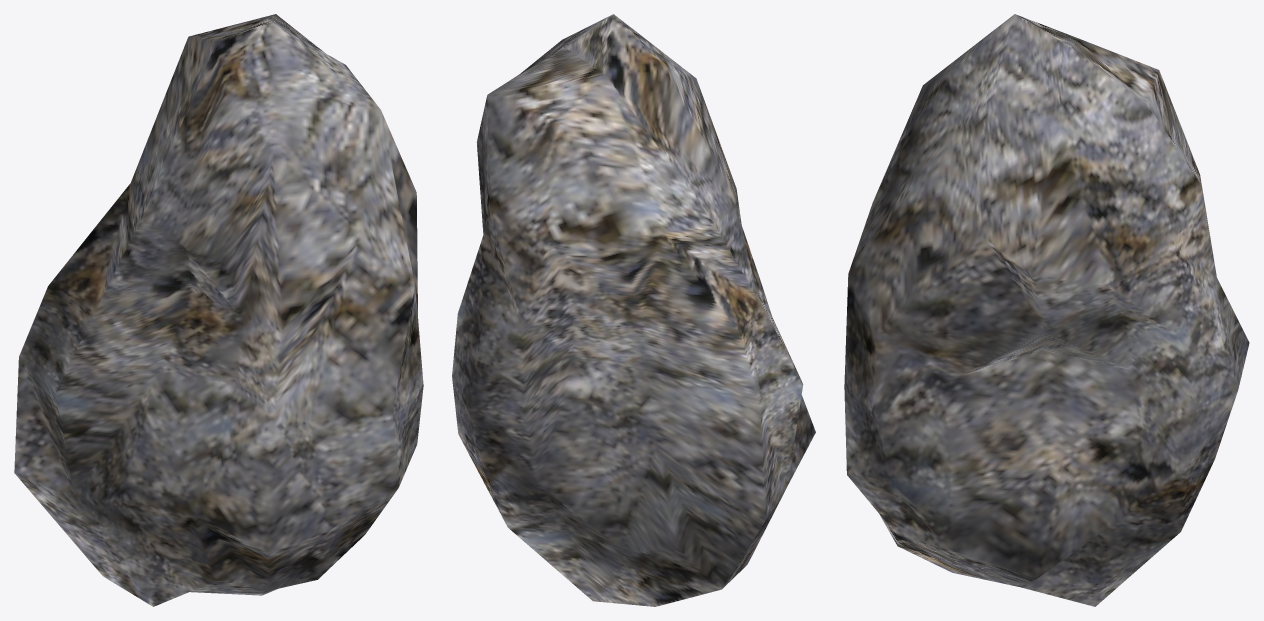
File: meteorit_03.fbx
3 views of the same model, side by side, from view 1: azimuth 30°, elevation 25°; view 2: azimuth 150°, elevation 25°; view 3: azimuth 270°, elevation 25° (orthographic). The views are drawn at different scales.
Visible parts, largest first — view 1: pCube1; view 2: pCube1; view 3: pCube1.
Boxes of the visible parts, x1,y1,x2,y2 form: pCube1: (14, 14, 423, 606); pCube1: (452, 14, 815, 606); pCube1: (844, 14, 1249, 606).
Size of the model in its own units: 206 by 351 by 214.
